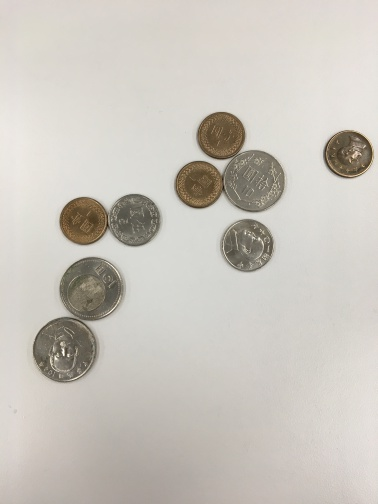1 dollar: (316, 124, 375, 184), (190, 107, 250, 163), (170, 157, 225, 213), (55, 193, 109, 247)
10 dollar: (20, 314, 119, 392), (53, 253, 138, 322), (221, 149, 297, 216)
5 dollar: (217, 214, 283, 278), (107, 184, 170, 251)
